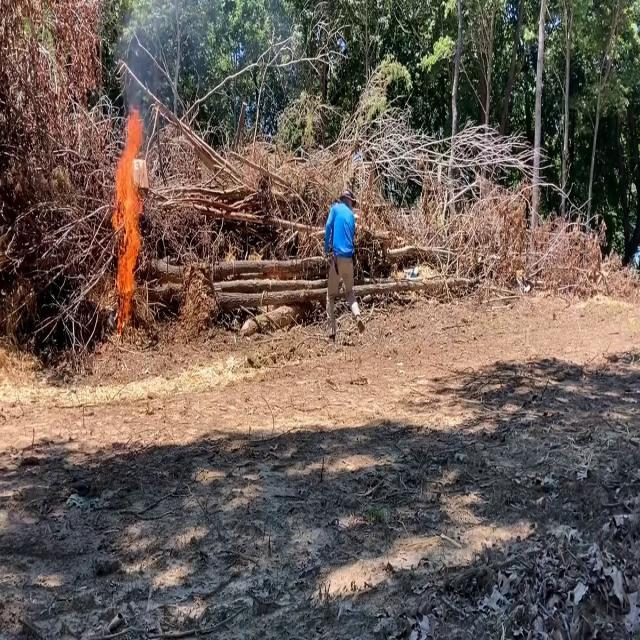Fire: (110, 104, 148, 313)
Smoke: (116, 2, 206, 106)
